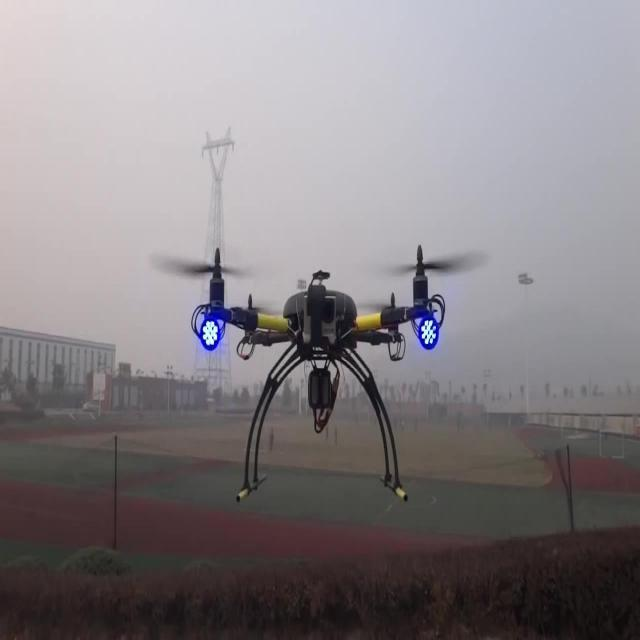UAV: (160, 246, 483, 502)
